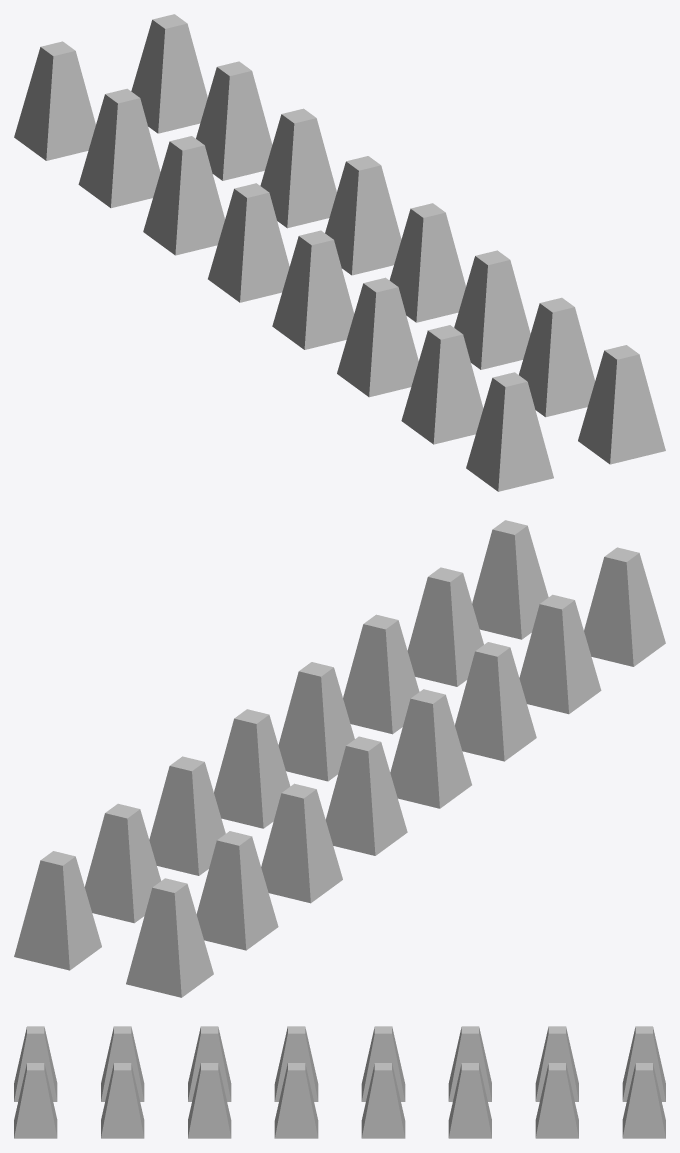
The model's file is cf_sm_dragon.obj.
3 renders of one model, top to bottom at view 1: azimuth 30°, elevation 25°; view 2: azimuth 150°, elevation 25°; view 3: azimuth 270°, elevation 25°, orthographic. The views are drawn at different scales.
Parts seen in each view (by area): view 1: Cube; view 2: Cube; view 3: Cube.
Part boxes in pixels (x1=…): Cube: x1=14, y1=14, x2=665, y2=491; Cube: x1=14, y1=520, x2=665, y2=997; Cube: x1=14, y1=1026, x2=665, y2=1138.
Size of the model in its own units: 3 by 1.6 by 15.
